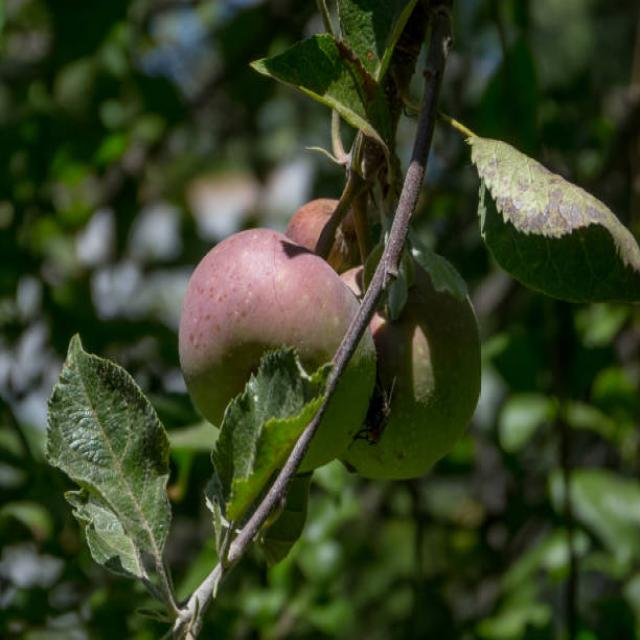Unripe: (178, 227, 375, 473)
